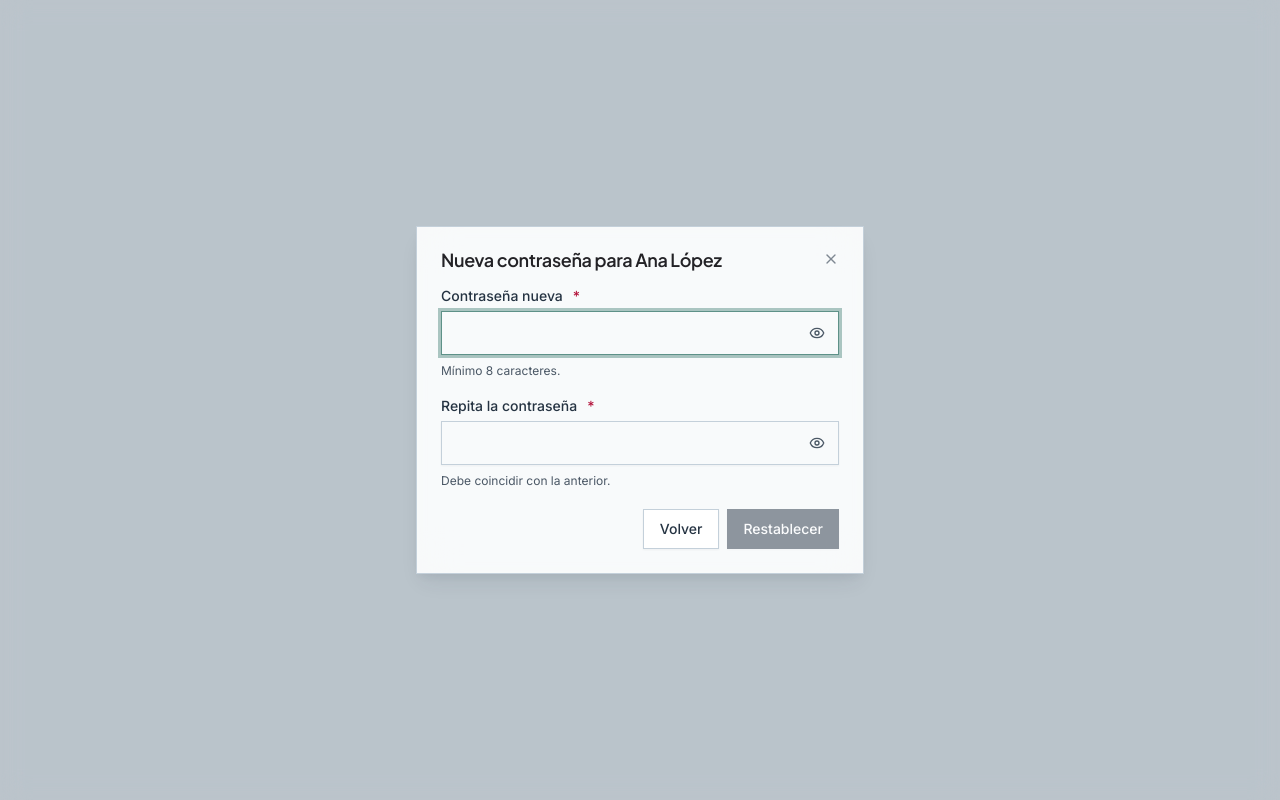
Test: ContrasenaDialog › deja ver la contraseña escrita
This screenshot has width=1280, height=800.
Type "ClaveSegura2026" into the password field labelled "Contraseña nueva *". click: (640, 333)
box: [441,311,839,355]
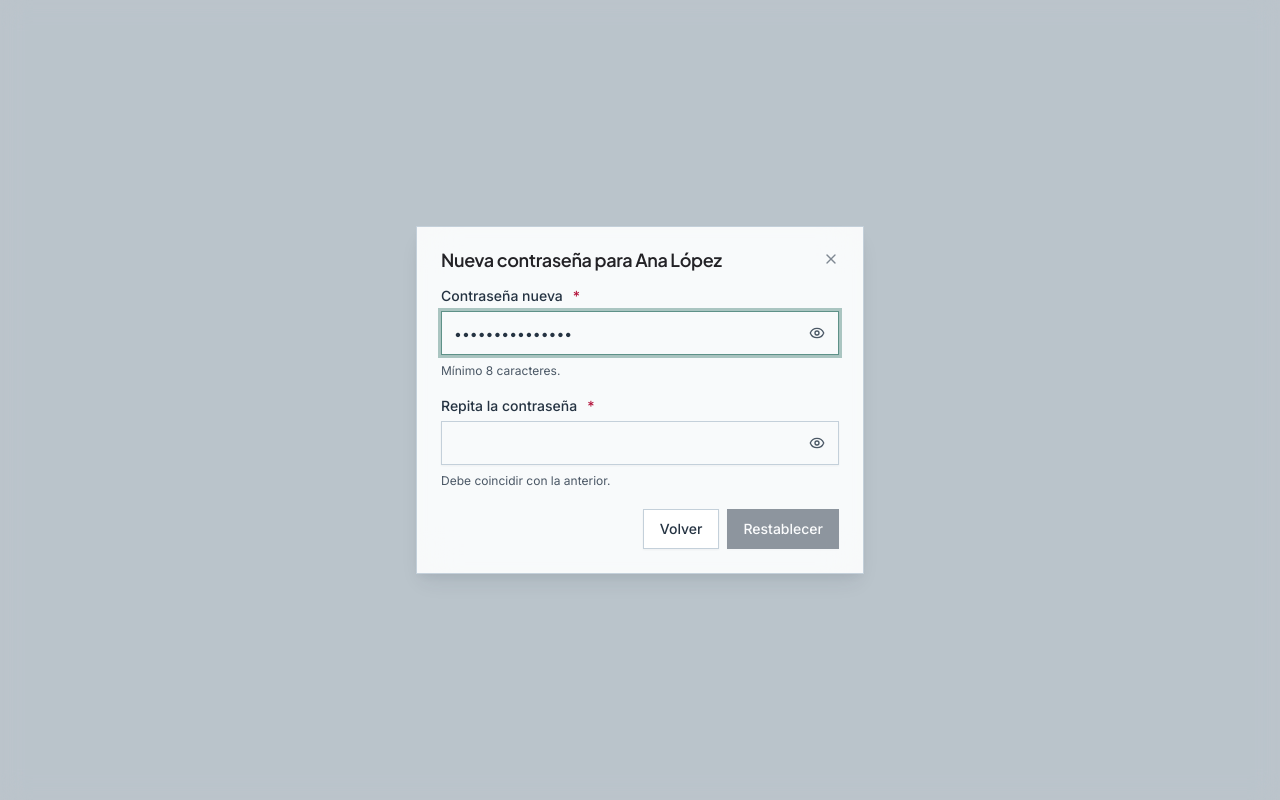
Click the button named "Ver la contraseña" below "Contraseña nueva". click: (817, 333)
box: [799,315,835,351]
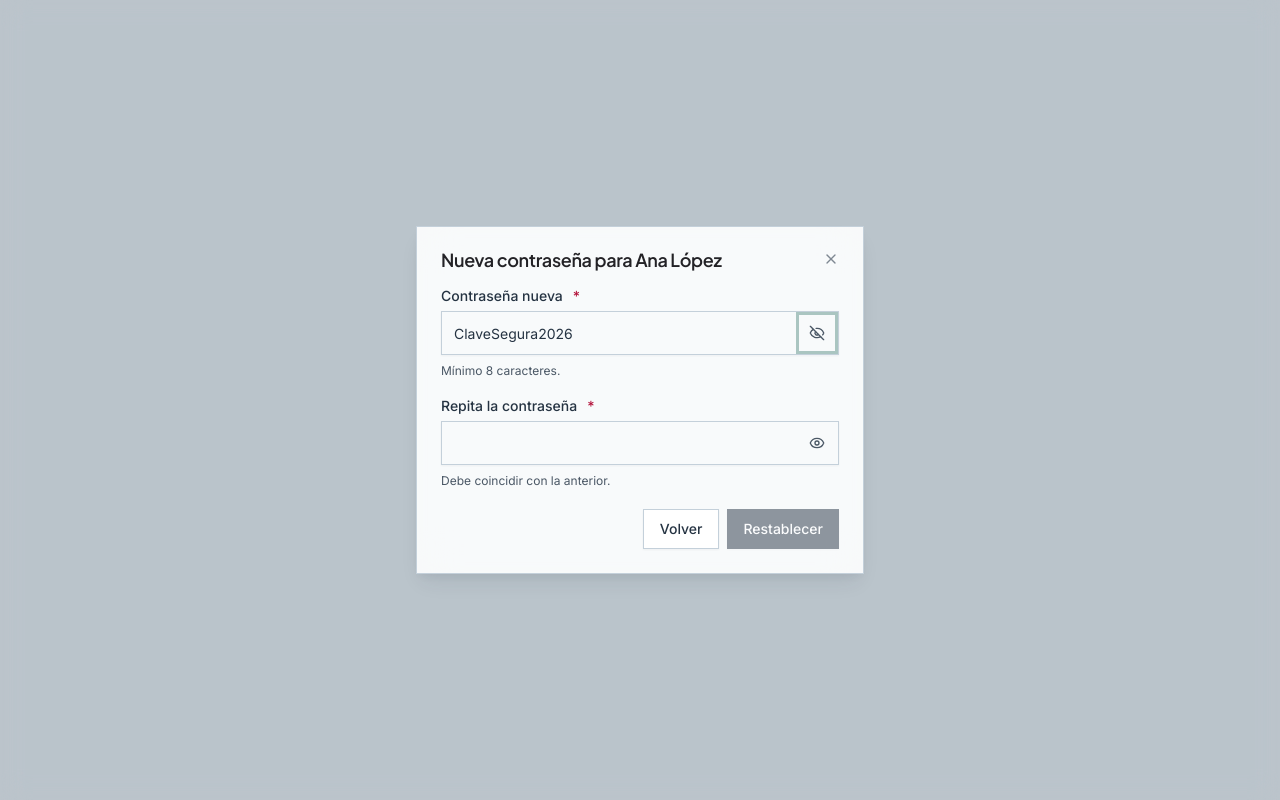
Result: the field labelled "Contraseña nueva *" shows its text at [441,311,839,355]
